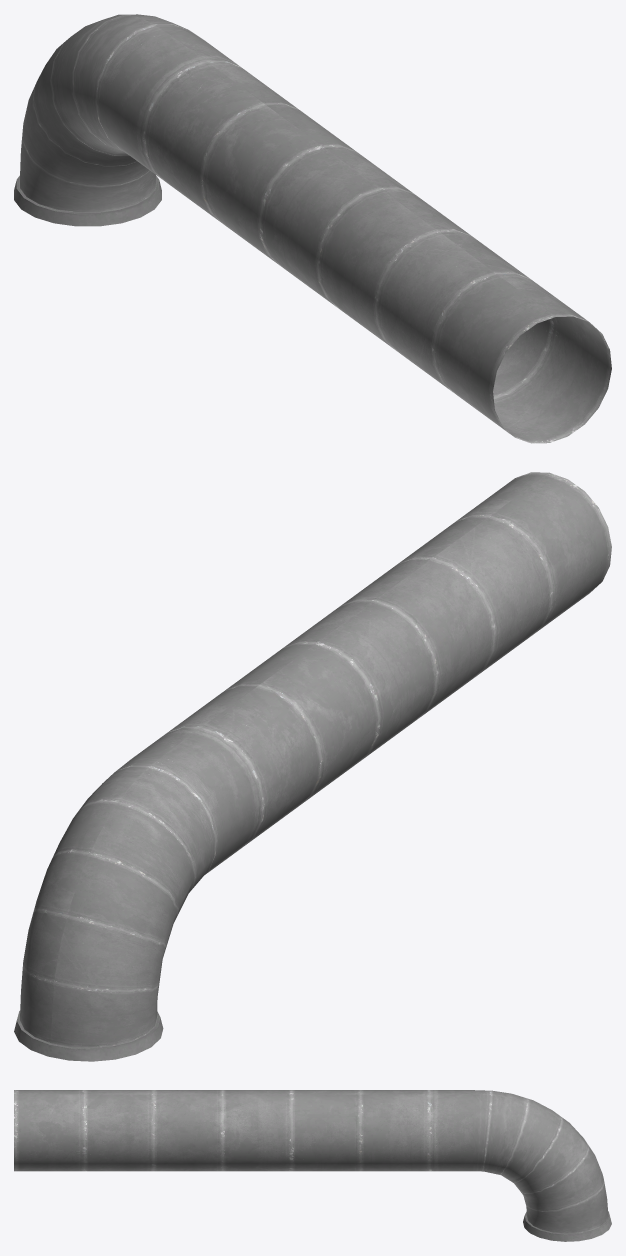
File: SM_Air_Vent_01i.glb
3 renders of one model, top to bottom at view 1: azimuth 30°, elevation 25°; view 2: azimuth 150°, elevation 25°; view 3: azimuth 270°, elevation 25°, orthographic. The views are drawn at different scales.
Visible parts, largest first — view 1: SM_Air_Vent_01i; view 2: SM_Air_Vent_01i; view 3: SM_Air_Vent_01i.
Boxes of the visible parts, left/top/right/bottom form: SM_Air_Vent_01i: left=14, top=14, right=611, bottom=443; SM_Air_Vent_01i: left=14, top=472, right=611, bottom=1061; SM_Air_Vent_01i: left=14, top=1090, right=611, bottom=1241.
Bounding box in the file's own units: 0.3219 × 0.5302 × 2.16.
Materials: 1 (1 with a texture image).
